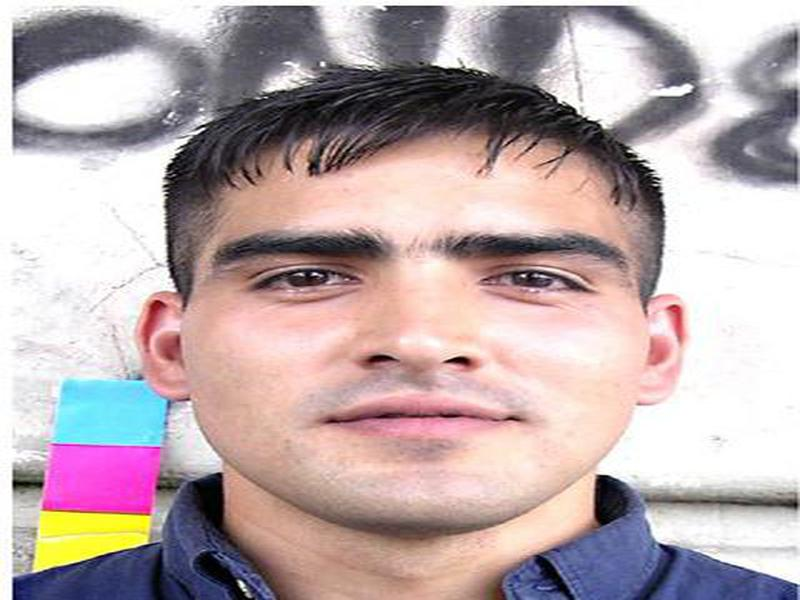without_mask: (187, 166, 643, 534)
